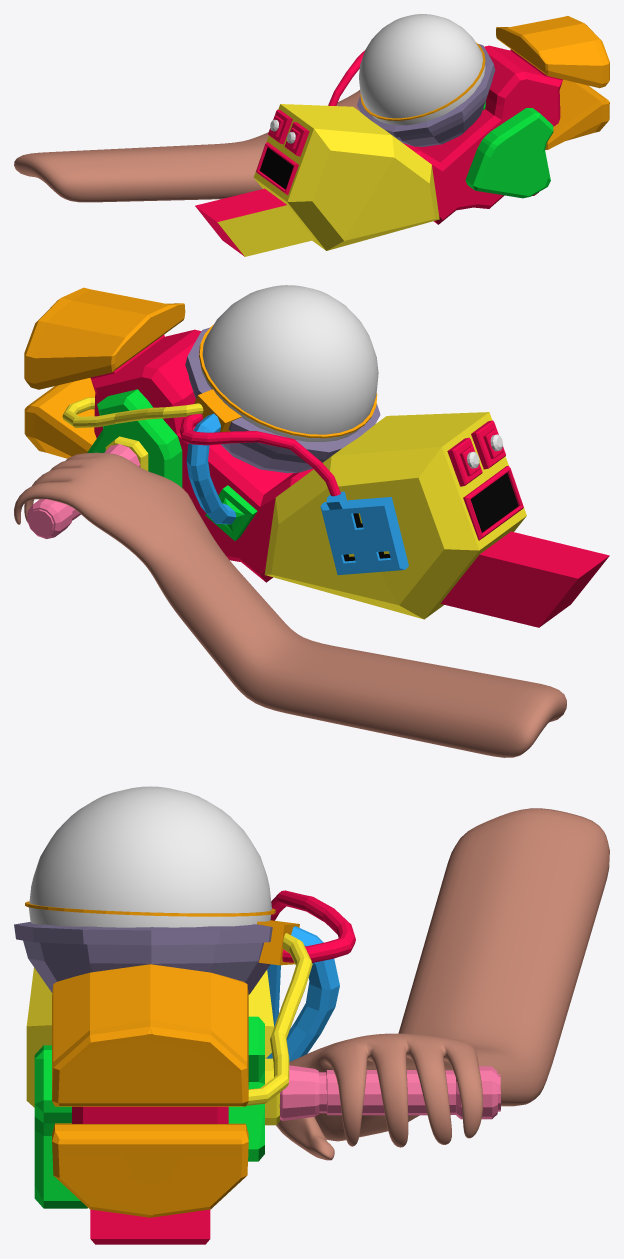
Rendered from GunModel.fbx.
3 views of the same model, one above another, from view 1: azimuth 30°, elevation 25°; view 2: azimuth 150°, elevation 25°; view 3: azimuth 270°, elevation 25° (orthographic). The views are drawn at different scales.
Visible parts, largest first — view 1: Cube.009; view 2: Cube.009; view 3: Cube.009.
Boxes of the visible parts, x1,y1,x2,y2 form: Cube.009: (14,14,609,256); Cube.009: (14,285,609,757); Cube.009: (14,786,609,1244).
Size of the model in its own units: 836 by 362 by 501.
